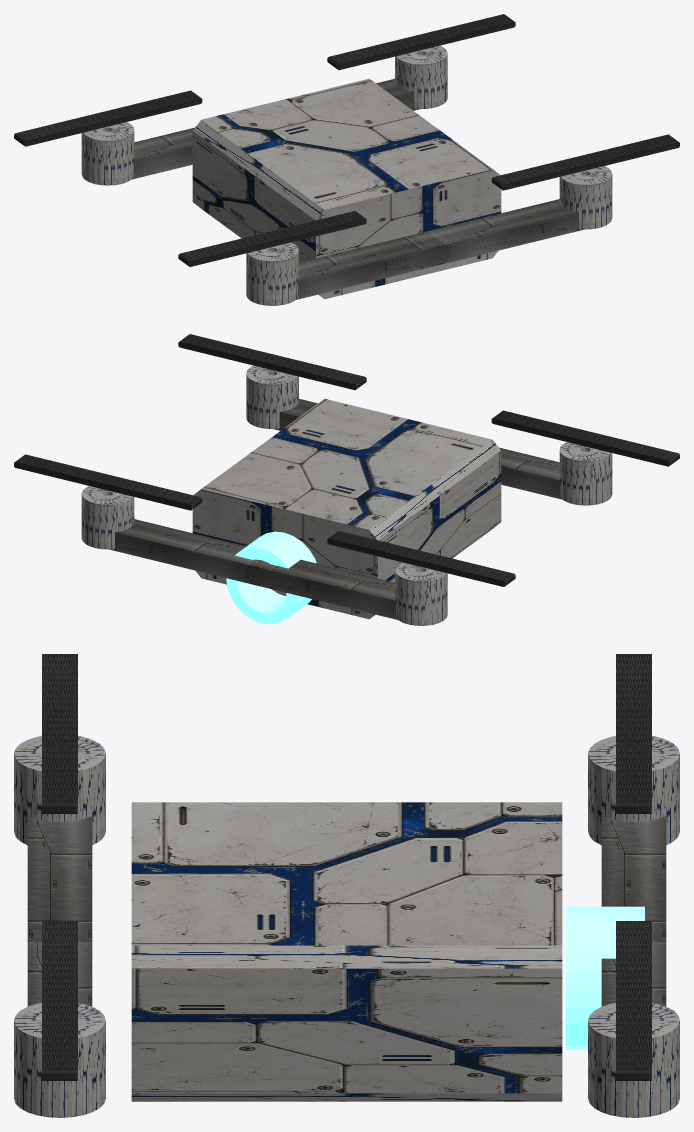
The model's file is drone.gltf.
The picture shows the model from 3 angles, top to bottom: view 1: azimuth 30°, elevation 25°; view 2: azimuth 150°, elevation 25°; view 3: azimuth 270°, elevation 25°; orthographic projection. The views are drawn at different scales.
Visible parts, largest first — view 1: Hull, Arm (×4), Rotor (×4), Motor (×4); view 2: Hull, Arm (×4), Rotor (×4), Motor (×4), Camera; view 3: Hull, Motor (×4), Rotor (×4), Arm (×4), Camera.
Boxes of the visible parts, <box> form: Hull: <box>192,78,501,299</box>; Arm (×4): <box>131,79,584,299</box>; Rotor (×4): <box>14,14,679,266</box>; Motor (×4): <box>81,45,612,305</box>; Hull: <box>192,398,501,619</box>; Arm (×4): <box>109,399,562,619</box>; Rotor (×4): <box>14,334,679,586</box>; Motor (×4): <box>81,365,612,625</box>; Camera: <box>226,531,316,624</box>; Hull: <box>131,802,562,1101</box>; Motor (×4): <box>14,736,679,1117</box>; Rotor (×4): <box>42,654,651,1080</box>; Arm (×4): <box>27,816,666,1006</box>; Camera: <box>566,906,644,1049</box>.
Bounding box in the file's own units: 0.69 × 0.139 × 0.464.
Materials: 5 (4 with a texture image).
